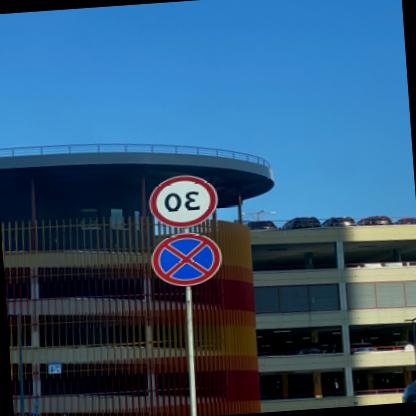speedlimit: (149, 172, 220, 228)
